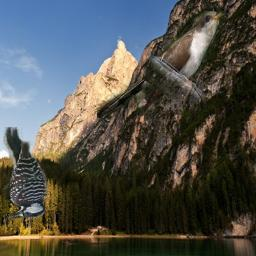Cuckoo: (97, 11, 225, 118)
Woodpecker: (3, 127, 49, 220)
